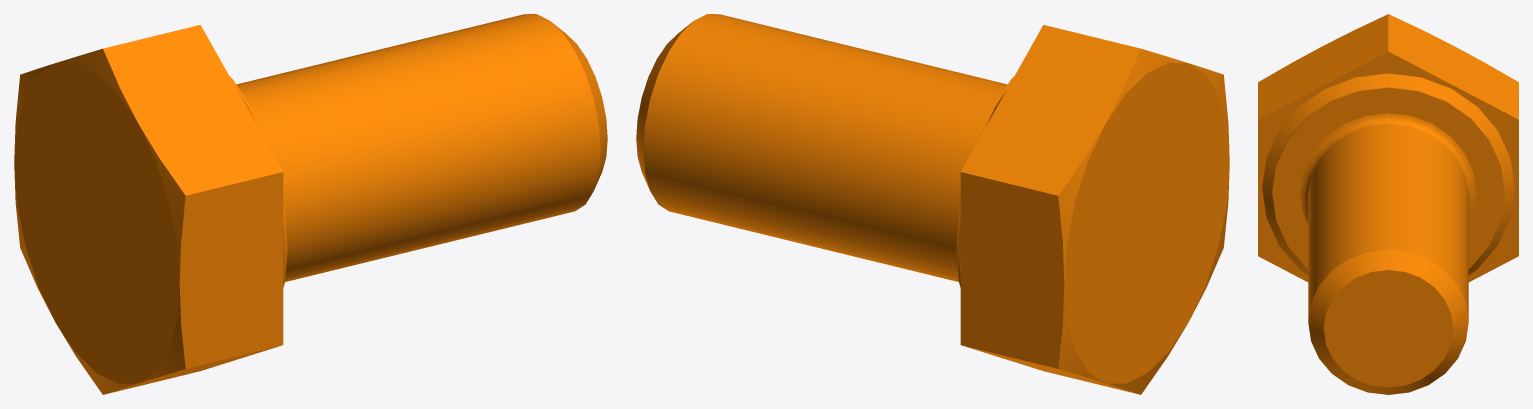
3 views of the same model, side by side, from view 1: azimuth 30°, elevation 25°; view 2: azimuth 150°, elevation 25°; view 3: azimuth 270°, elevation 25° (orthographic). The views are drawn at different scales.
Parts seen in each view (by area): view 1: SFS FN 85 122198 Sechskantschraube DIN 933 Messing blank M8x; view 2: SFS FN 85 122198 Sechskantschraube DIN 933 Messing blank M8x; view 3: SFS FN 85 122198 Sechskantschraube DIN 933 Messing blank M8x.
Boxes of the visible parts, box(x1,y1,x2,y2) form: SFS FN 85 122198 Sechskantschraube DIN 933 Messing blank M8x: box(14, 14, 607, 394); SFS FN 85 122198 Sechskantschraube DIN 933 Messing blank M8x: box(636, 14, 1229, 394); SFS FN 85 122198 Sechskantschraube DIN 933 Messing blank M8x: box(1258, 14, 1518, 394).
Size of the model in its own units: 0.0213 by 0.015 by 0.013.
